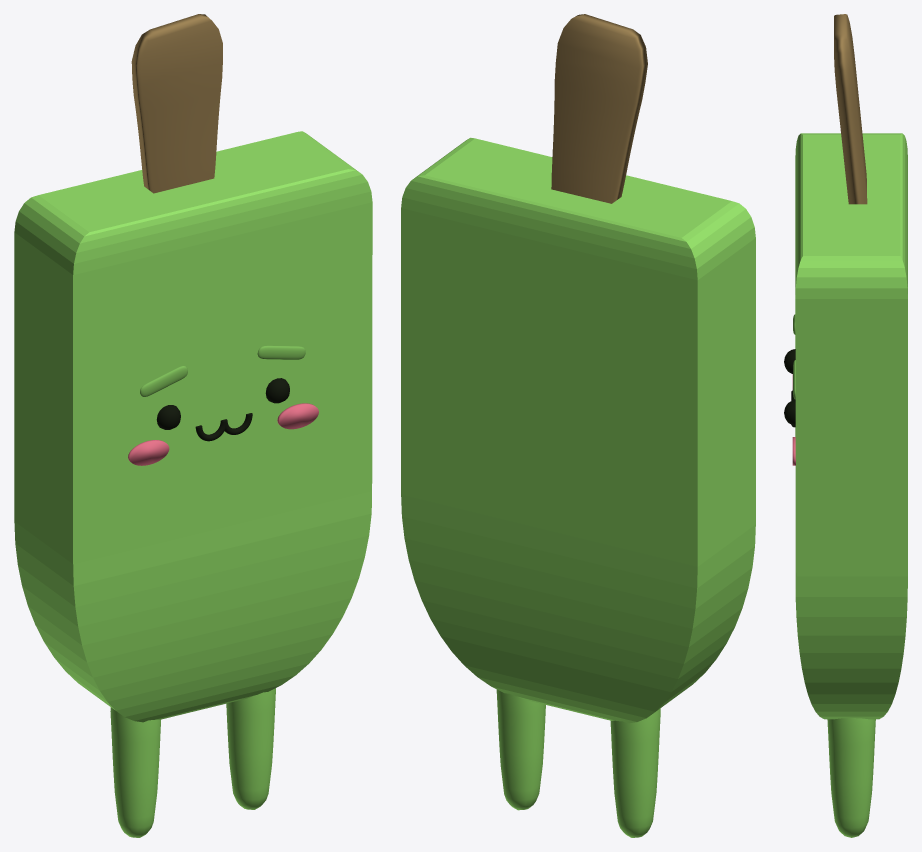
The model's file is merona.glb.
The picture shows the model from 3 angles, left to right: view 1: azimuth 30°, elevation 25°; view 2: azimuth 150°, elevation 25°; view 3: azimuth 270°, elevation 25°; orthographic projection. The views are drawn at different scales.
Visible parts, largest first — view 1: body, bar, legs, chick, eyebrow, eyes; view 2: body, bar, legs; view 3: body, legs, bar, eyes.
Part boxes in pixels (x1,y1,x2,y2): body: (14, 131, 372, 722); bar: (131, 14, 222, 193); legs: (110, 688, 275, 837); chick: (128, 403, 318, 465); eyebrow: (140, 345, 305, 396); eyes: (156, 378, 289, 429); body: (401, 137, 755, 723); bar: (551, 14, 647, 203); legs: (496, 689, 660, 837); body: (795, 133, 907, 719); legs: (827, 718, 875, 837); bar: (834, 14, 867, 204); eyes: (784, 349, 795, 425).
Size of the model in its own units: 2 by 5.18 by 0.7481.
